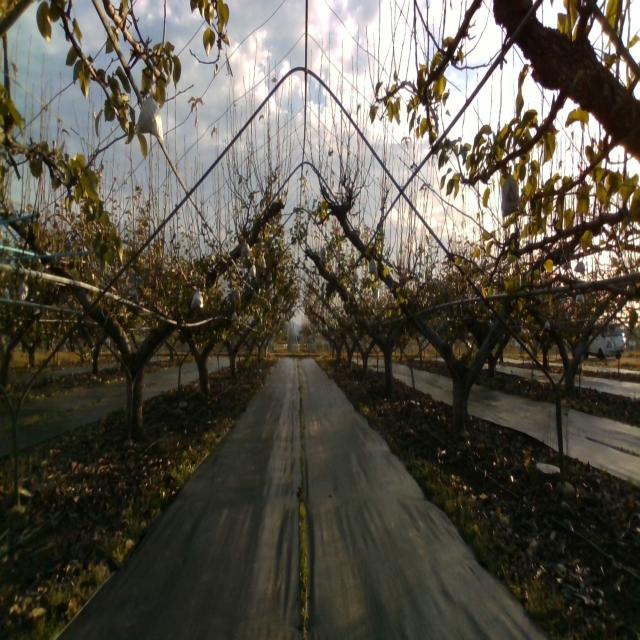pearbags: (135, 84, 161, 139), (501, 166, 520, 217), (190, 287, 204, 309), (240, 240, 252, 259), (368, 256, 378, 275)
